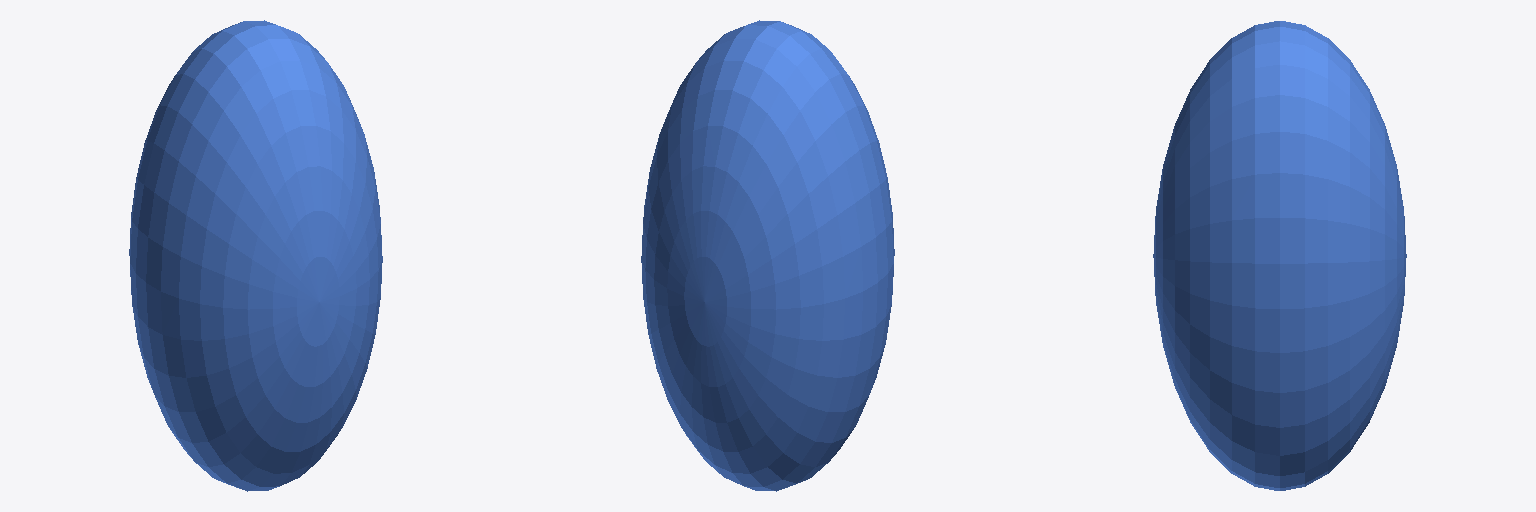
The robot description file, URDF, robot "fr3_link7_robot":
<?xml version="0.0" ?>
<robot name="fr3_link7_robot">
  <link name="base_link">
    <inertial>
      <origin rpy="0 0 0" xyz="0 0 0"/>
       <mass value=".1"/>
       <inertia ixx="1" ixy="0" ixz="0" iyy="1" iyz="0" izz="1"/>
    </inertial>
    
    <visual>
      <origin rpy="0 0 0" xyz="0 0 0.00"/>
      <geometry>
        <mesh filename="package://meshes/fr3_link7_ellipsoid.obj"/>
      </geometry>
      <material name="cornflowerblue">
        <color rgba="0.3921 0.5843 0.9294 0.8"/>
      </material>
    </visual>
  </link>
</robot>

--- What the picture shows (computed from the rendered views, not written in the file) ---
3 views of the same robot in one strip: view 1: azimuth 30°, elevation 25°; view 2: azimuth 150°, elevation 25°; view 3: azimuth 270°, elevation 25° (orthographic).
Robot: fr3_link7_robot — 1 links, 0 joints (none); root link base_link; default pose: all joints at 0.
Links seen in each view (by area): view 1: base_link; view 2: base_link; view 3: base_link.
Boxes of the visible links, x1,y1,x2,y2 form: base_link: (129, 20, 382, 491); base_link: (641, 20, 894, 491); base_link: (1153, 21, 1406, 490).
Size in the robot's own frame: 0.14 by 0.14 by 0.28 metres.
1 mesh visuals loaded from 1 distinct referenced files (1 OBJ).